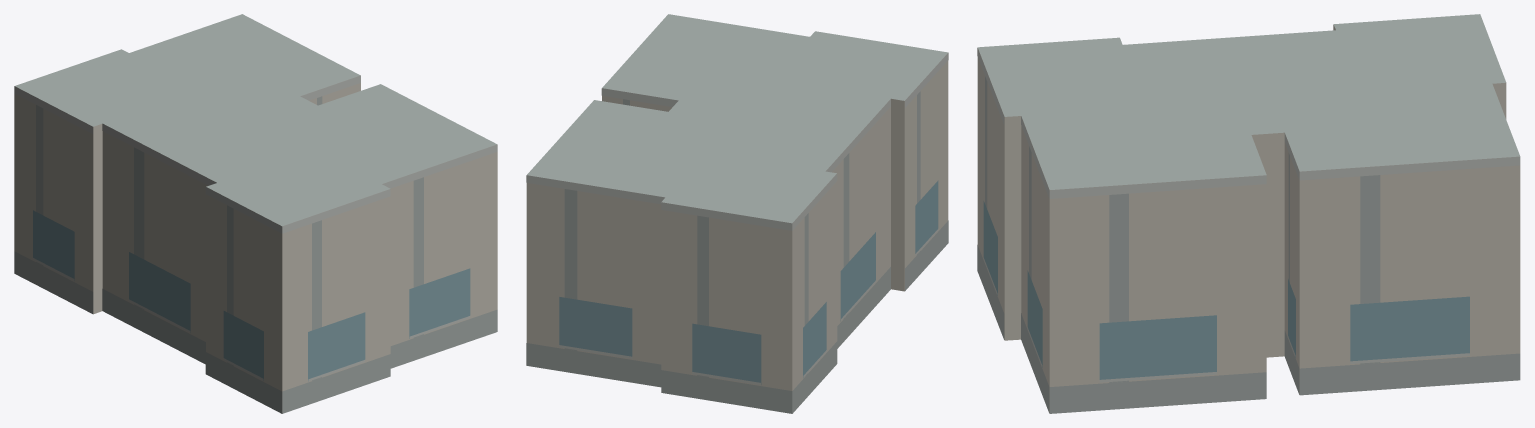
File: residential-ab2571a4-7c44-494e-909d-fdeb5fb369cc.glb
3 renders of one model, left to right at view 1: azimuth 30°, elevation 25°; view 2: azimuth 150°, elevation 25°; view 3: azimuth 270°, elevation 25°, orthographic. The views are drawn at different scales.
Parts seen in each view (by area): view 1: residential-ab2571a4-7c44-494e-909d-fdeb5fb369cc.tmp; view 2: residential-ab2571a4-7c44-494e-909d-fdeb5fb369cc.tmp; view 3: residential-ab2571a4-7c44-494e-909d-fdeb5fb369cc.tmp.
Boxes of the visible parts, x1,y1,x2,y2 form: residential-ab2571a4-7c44-494e-909d-fdeb5fb369cc.tmp: (14,14,497,413); residential-ab2571a4-7c44-494e-909d-fdeb5fb369cc.tmp: (526,14,948,413); residential-ab2571a4-7c44-494e-909d-fdeb5fb369cc.tmp: (977,14,1520,413).
Bounding box in the file's own units: 10.31 × 6.1 × 13.43.
